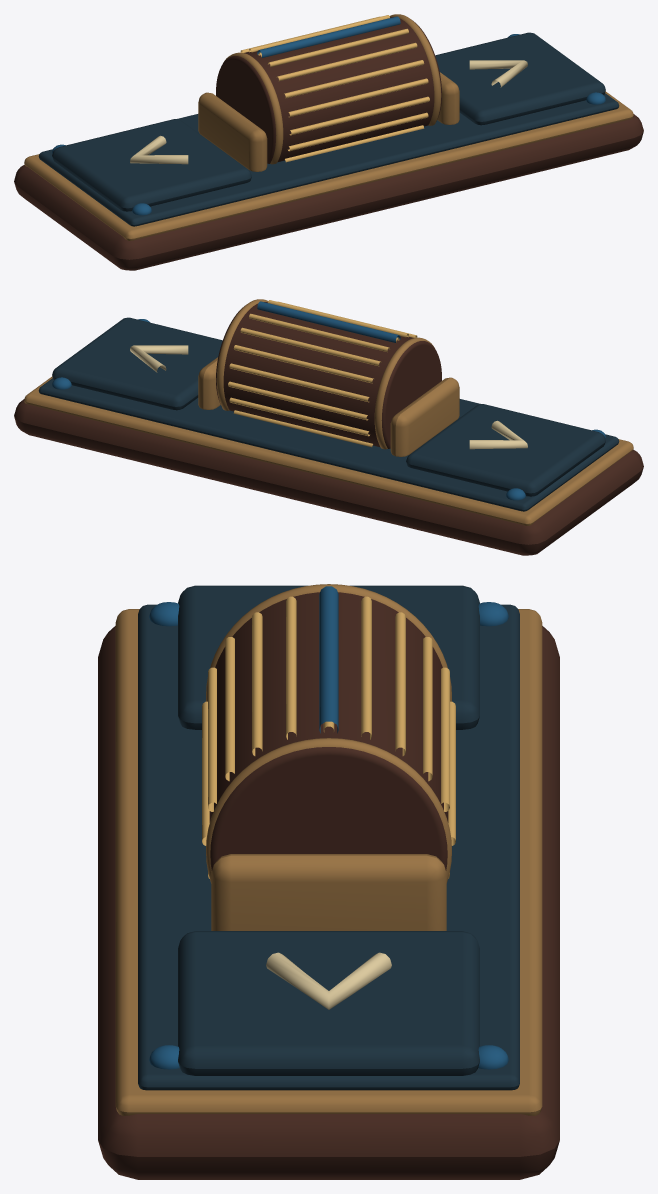
File: hand-thumbwheel-v1.glb
The picture shows the model from 3 angles, top to bottom: view 1: azimuth 30°, elevation 25°; view 2: azimuth 150°, elevation 25°; view 3: azimuth 270°, elevation 25°; orthographic projection. The views are drawn at different scales.
Visible parts, largest first — view 1: WalnutShoe, DarkRoller, RecessedEnamel, ThumbPad, ThumbPad.001, BronzeSeat, AxleBearing, LapisIndex, RollerRim, RollerRim.001, AxleBearing.001, GripRib8 (+9 smaller); view 2: WalnutShoe, DarkRoller, RecessedEnamel, ThumbPad, ThumbPad.001, BronzeSeat, AxleBearing, LapisIndex, RollerRim, RollerRim.001, AxleBearing.001, GripRib0 (+9 smaller); view 3: RecessedEnamel, WalnutShoe, DarkRoller, ThumbPad.001, BronzeSeat, AxleBearing.001, ThumbPad, RollerRim.001, LapisIndex, DirectionalInlay.001, RollerRim, GripRib3 (+9 smaller).
Boxes of the visible parts, <box> form: WalnutShoe: <box>14,114,643,270</box>; DarkRoller: <box>216,17,441,163</box>; RecessedEnamel: <box>38,93,619,226</box>; ThumbPad: <box>52,119,251,211</box>; ThumbPad.001: <box>435,32,605,125</box>; BronzeSeat: <box>24,91,633,240</box>; AxleBearing: <box>198,92,267,171</box>; LapisIndex: <box>257,16,400,57</box>; RollerRim: <box>223,52,283,164</box>; RollerRim.001: <box>389,14,441,125</box>; AxleBearing.001: <box>437,72,459,124</box>; GripRib8: <box>283,60,424,98</box>; WalnutShoe: <box>14,399,643,555</box>; DarkRoller: <box>216,302,441,448</box>; RecessedEnamel: <box>38,378,619,511</box>; ThumbPad: <box>406,404,605,496</box>; ThumbPad.001: <box>52,317,222,410</box>; BronzeSeat: <box>24,376,633,525</box>; AxleBearing: <box>390,377,459,456</box>; LapisIndex: <box>257,301,400,342</box>; RollerRim: <box>374,337,434,449</box>; RollerRim.001: <box>216,299,268,410</box>; AxleBearing.001: <box>198,357,220,409</box>; GripRib0: <box>228,381,368,420</box>; RecessedEnamel: <box>138,604,519,1090</box>; WalnutShoe: <box>98,626,559,1179</box>; DarkRoller: <box>209,592,448,870</box>; ThumbPad.001: <box>178,931,479,1075</box>; BronzeSeat: <box>115,609,542,1115</box>; AxleBearing.001: <box>211,854,446,930</box>; ThumbPad: <box>178,585,479,729</box>; RollerRim.001: <box>206,738,451,883</box>; LapisIndex: <box>319,586,338,733</box>; DirectionalInlay.001: <box>266,952,391,1009</box>; RollerRim: <box>206,584,451,701</box>; GripRib3: <box>395,612,405,755</box>.
Bounding box in the file's own units: 2.75 × 0.6979 × 1.04.
